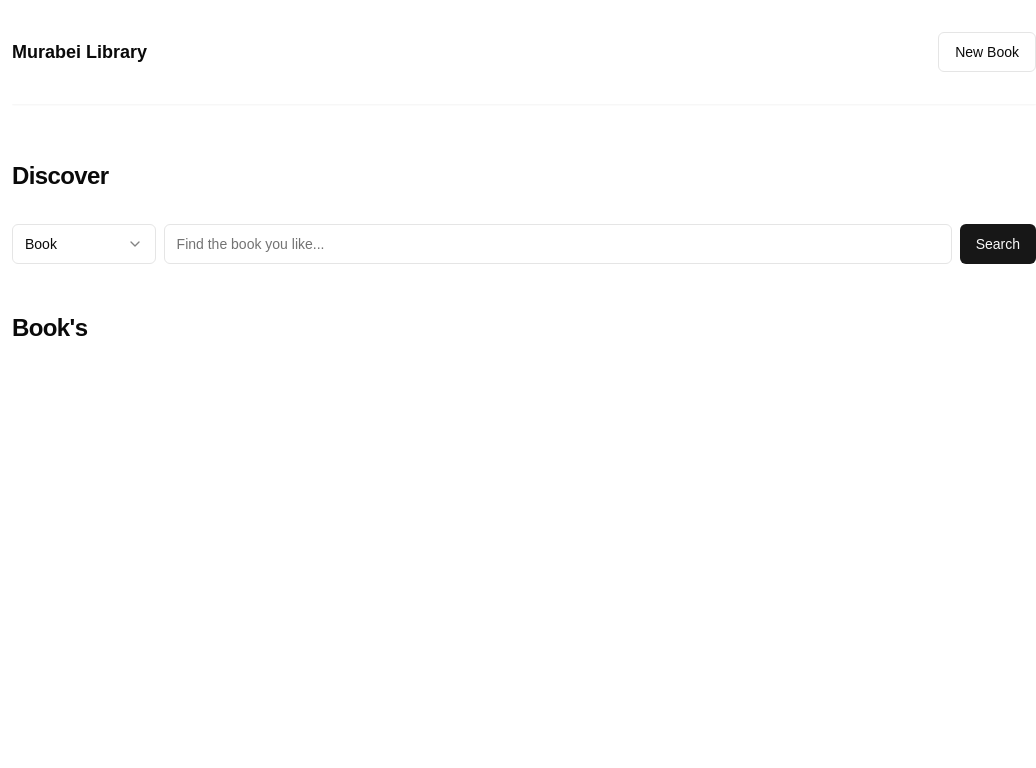
Test case: PesquisaPorlivros › Fazer a busca campo vazio
Click the link with test id "searchbutton".
click(998, 244)  # box [960,224,1035,264]
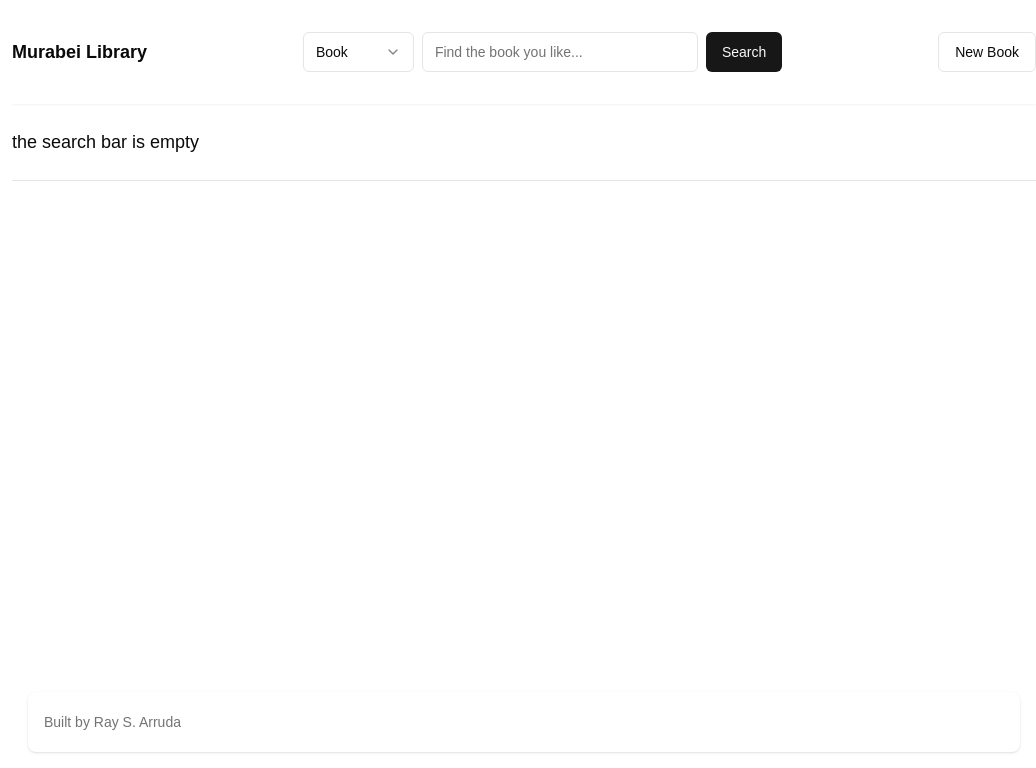
Check: the heading "the search bar is empty" is shown, box [12,132,199,152]
